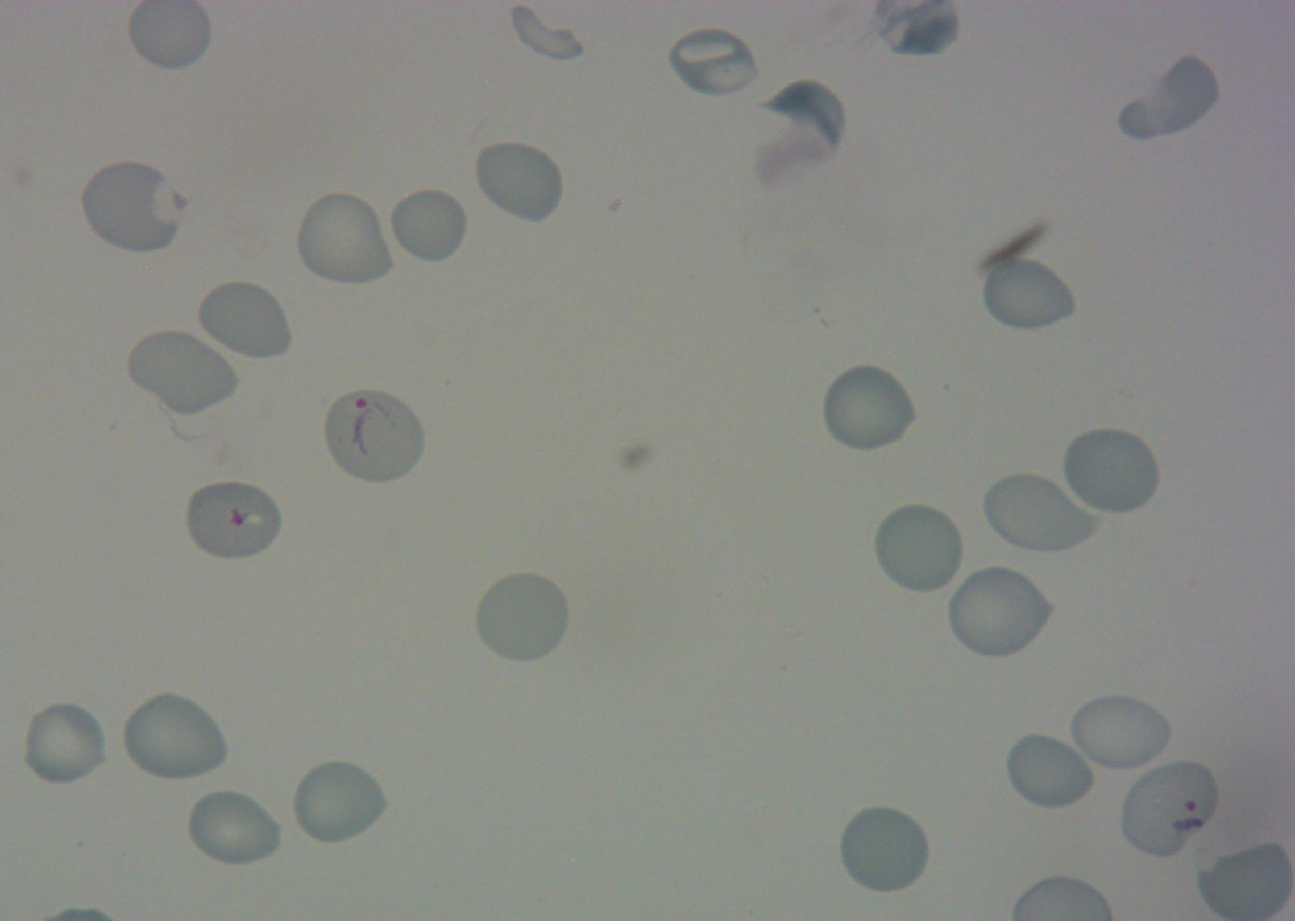Infected: (1120, 760, 1220, 858), (324, 388, 423, 485), (181, 475, 285, 561)
Uninfected: (945, 563, 1054, 661), (293, 188, 396, 288), (1116, 48, 1222, 141), (472, 569, 573, 665), (1059, 424, 1162, 517), (121, 693, 226, 784), (82, 161, 182, 254), (817, 362, 917, 454), (871, 500, 966, 596), (983, 473, 1097, 553), (129, 330, 236, 414), (836, 803, 931, 895), (289, 759, 388, 847), (1069, 689, 1173, 772), (193, 278, 292, 364), (978, 250, 1078, 333), (471, 137, 566, 224), (1198, 836, 1294, 920), (186, 786, 284, 868), (19, 699, 109, 788), (665, 23, 761, 101), (1005, 733, 1097, 809), (393, 190, 470, 266), (505, 0, 592, 67), (763, 79, 845, 149)
